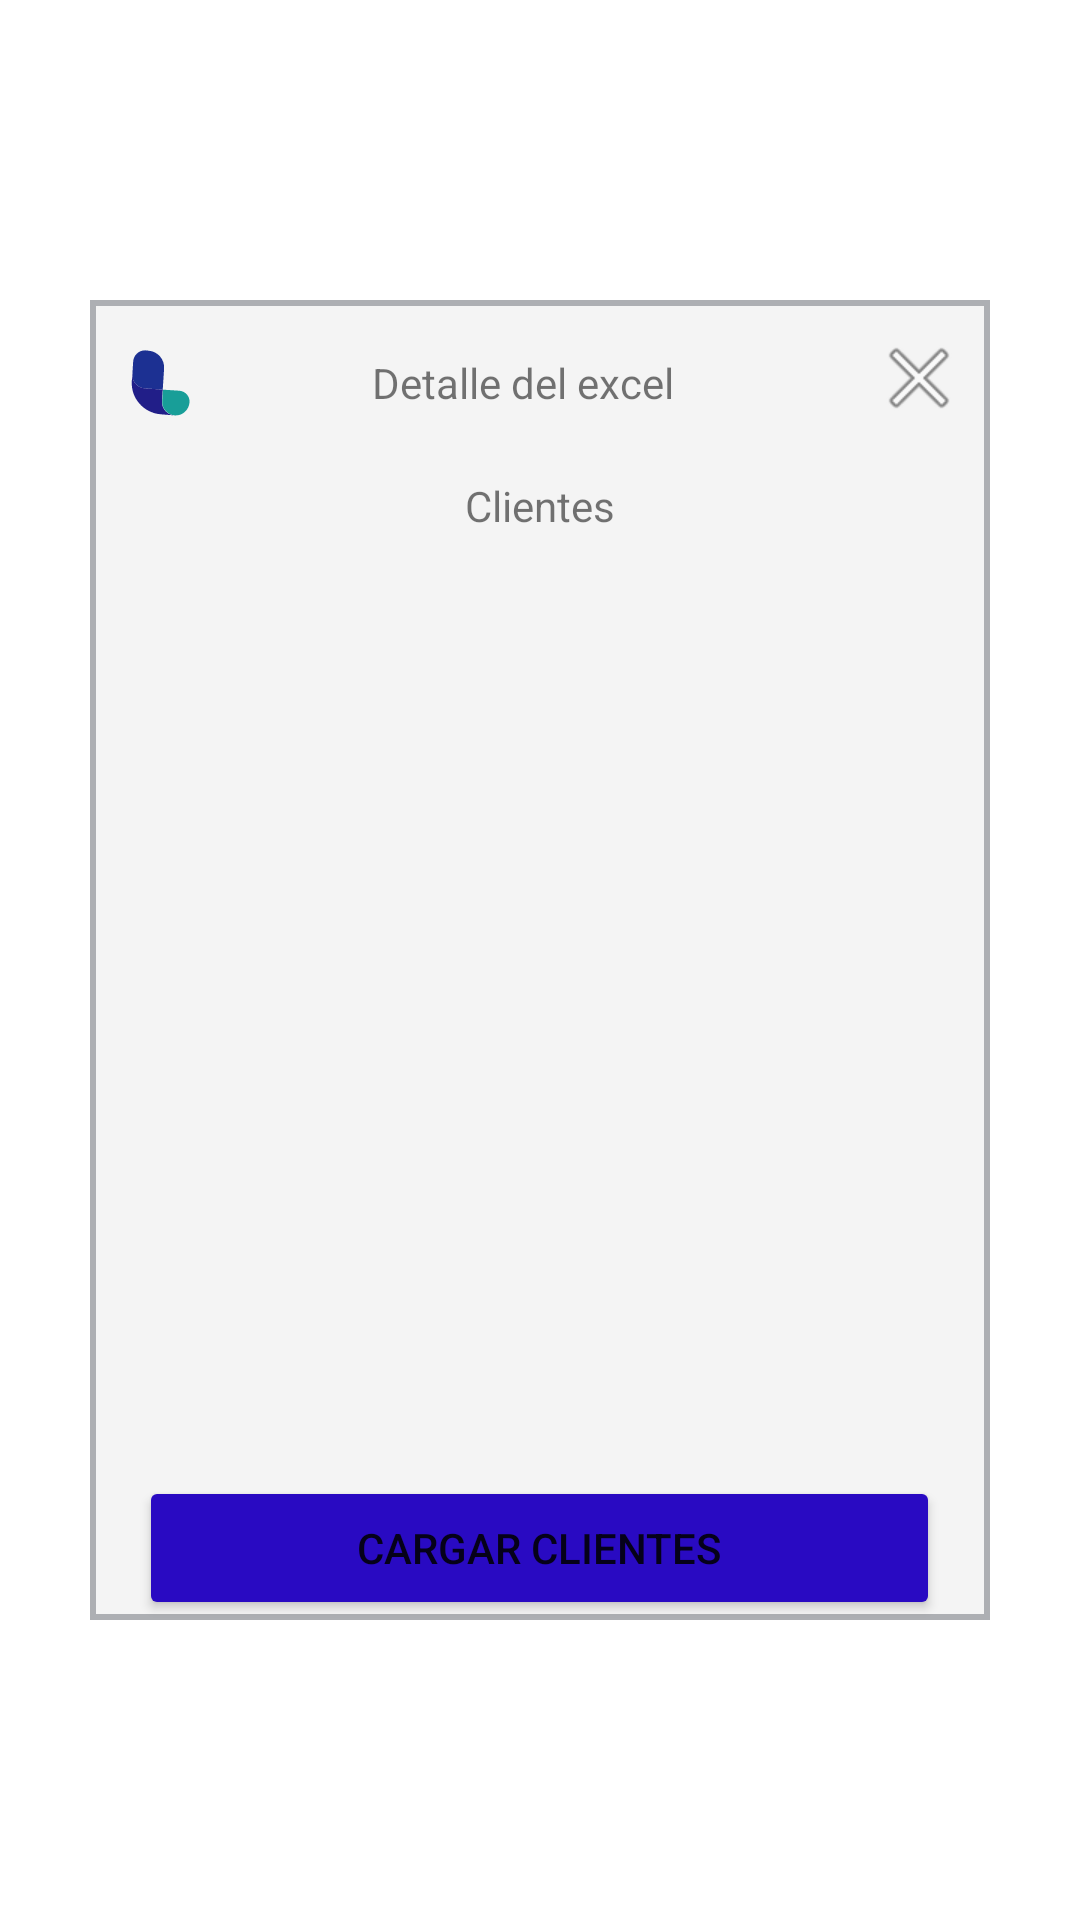

Icon click points for this 1080 × 1920 phone screenshot, format (x,y):
close clear cancel: (919,378)
